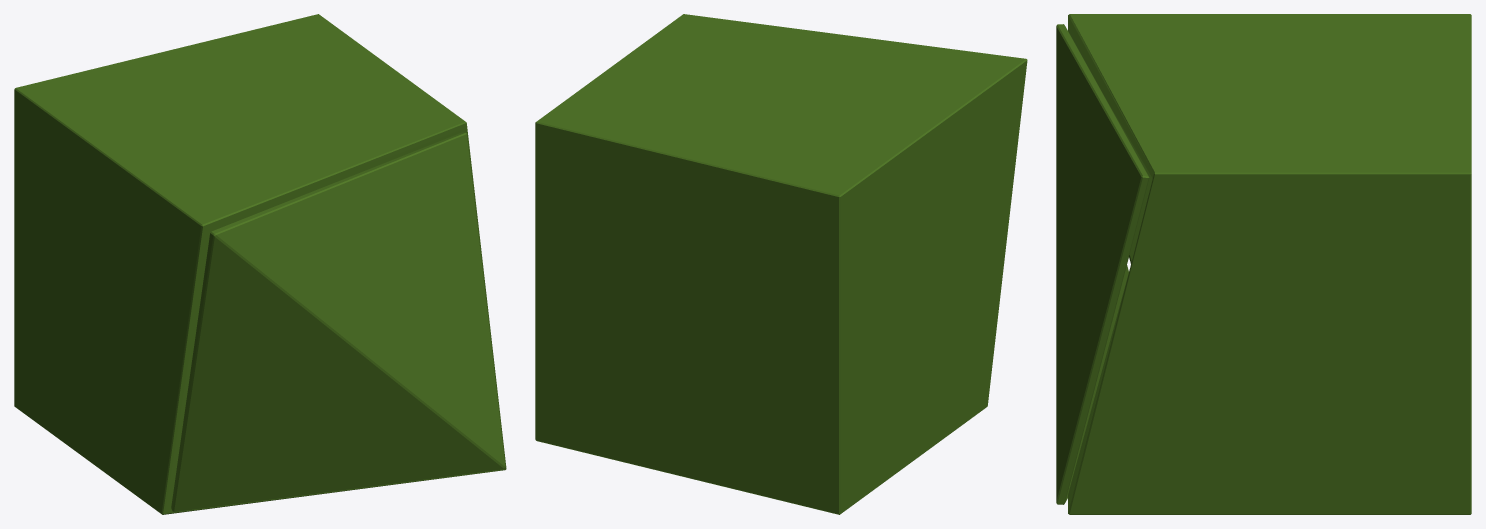
The model's file is reflex_origami_module_green_fbx_upZ.fbx.
The picture shows the model from 3 angles, left to right: view 1: azimuth 30°, elevation 25°; view 2: azimuth 150°, elevation 25°; view 3: azimuth 270°, elevation 25°; orthographic projection. The views are drawn at different scales.
Parts seen in each view (by area): view 1: reflex_origami_module; view 2: reflex_origami_module; view 3: reflex_origami_module.
Part boxes in pixels (x1,y1,x2,y2): reflex_origami_module: (14, 14, 506, 514); reflex_origami_module: (535, 14, 1027, 514); reflex_origami_module: (1056, 14, 1471, 514).
Bounding box in the file's own units: 44 × 48.38 × 44.
